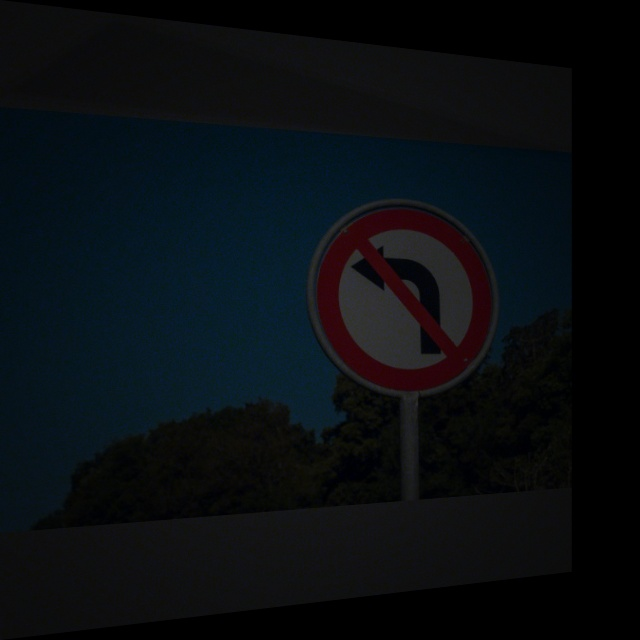Left_Turn_Prohibited: (308, 202, 499, 396)
